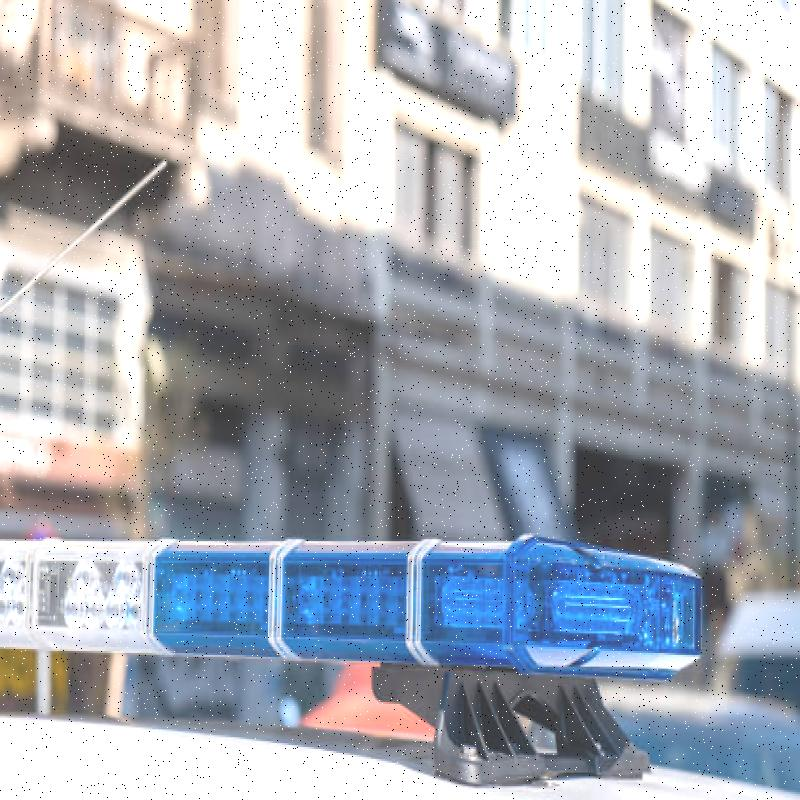AmbulanceSiren: (0, 494, 751, 674)
